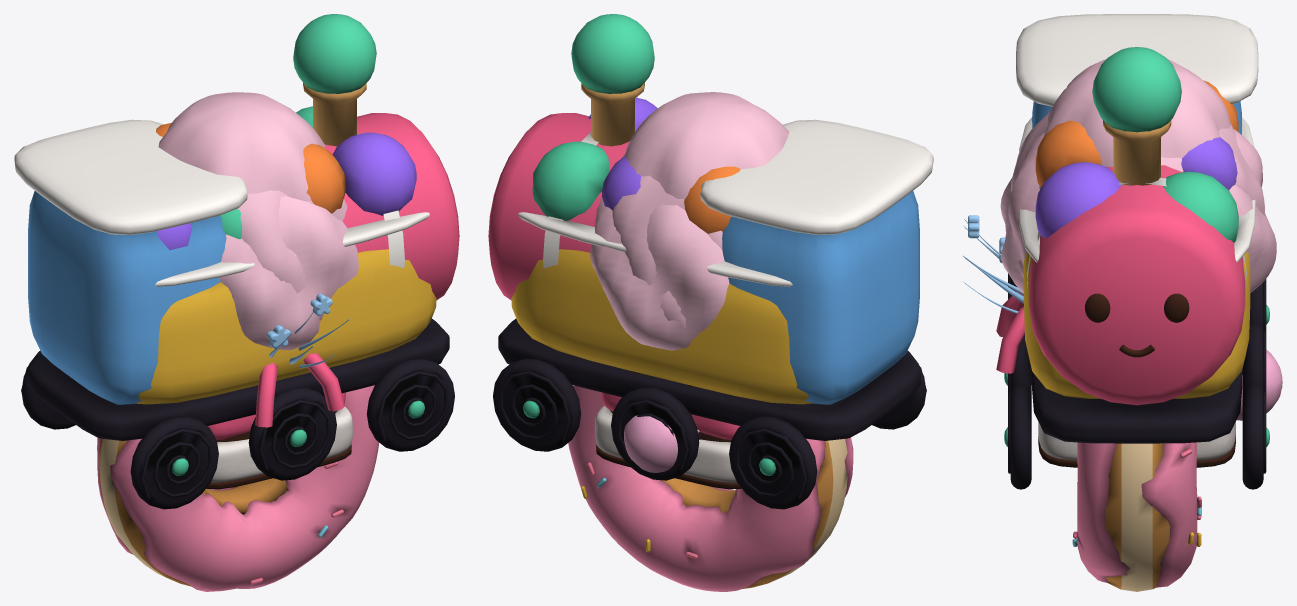
The model's file is candy.glb.
3 renders of one model, left to right at view 1: azimuth 30°, elevation 25°; view 2: azimuth 150°, elevation 25°; view 3: azimuth 270°, elevation 25°, orthographic. The views are drawn at different scales.
Visible parts, largest first — view 1: train_loco_licorice, loco_cab, donut_icing, wagon_tub, train_loco_candyWhite, tree_b_cloud, tree_c_cloud, loco_boiler, train_loco_gb1, train_wagon_gb2, donut_dough, tree_a_cloud (+10 smaller); view 2: train_loco_licorice, loco_cab, donut_icing, wagon_tub, train_loco_candyWhite, tree_c_cloud, tree_b_cloud, loco_boiler, train_loco_gb1, train_wagon_gb1, donut_dough, tree_a_cloud (+9 smaller); view 3: loco_boiler, train_loco_licorice, train_loco_candyWhite, donut_icing, donut_dough, tree_b_cloud, train_loco_gb1, train_wagon_gb2, tree_c_cloud, wagon_tub, train_wagon_gb1, train_wagon_gb3 (+12 smaller).
Boxes of the visible parts, bbox=[...] form: train_loco_licorice: bbox=[21, 318, 454, 509]; loco_cab: bbox=[28, 191, 226, 404]; donut_icing: bbox=[97, 385, 379, 591]; wagon_tub: bbox=[135, 249, 436, 404]; train_loco_candyWhite: bbox=[14, 119, 404, 268]; tree_b_cloud: bbox=[158, 92, 325, 201]; tree_c_cloud: bbox=[220, 196, 358, 349]; loco_boiler: bbox=[324, 113, 459, 299]; train_loco_gb1: bbox=[171, 14, 424, 475]; train_wagon_gb2: bbox=[157, 132, 416, 250]; donut_dough: bbox=[98, 439, 288, 586]; tree_a_cloud: bbox=[237, 190, 347, 320]; train_loco_licorice: bbox=[493, 318, 926, 509]; loco_cab: bbox=[722, 191, 919, 404]; donut_icing: bbox=[568, 385, 853, 591]; wagon_tub: bbox=[511, 249, 813, 404]; train_loco_candyWhite: bbox=[543, 119, 933, 268]; tree_c_cloud: bbox=[590, 198, 729, 350]; tree_b_cloud: bbox=[624, 92, 788, 199]; loco_boiler: bbox=[488, 113, 635, 299]; train_loco_gb1: bbox=[524, 14, 775, 469]; train_wagon_gb1: bbox=[523, 141, 775, 475]; donut_dough: bbox=[662, 438, 847, 588]; tree_a_cloud: bbox=[612, 140, 722, 329]; loco_boiler: bbox=[1029, 165, 1245, 405]; train_loco_licorice: bbox=[1008, 273, 1266, 489]; train_loco_candyWhite: bbox=[1016, 14, 1258, 290]; donut_icing: bbox=[1077, 442, 1197, 587]; donut_dough: bbox=[1105, 443, 1170, 591]; tree_b_cloud: bbox=[1044, 59, 1230, 166]; train_loco_gb1: bbox=[1004, 47, 1269, 445]; train_wagon_gb2: bbox=[1035, 102, 1237, 237]; tree_c_cloud: bbox=[1000, 129, 1276, 293]; wagon_tub: bbox=[1023, 251, 1250, 399]; train_wagon_gb1: bbox=[1006, 115, 1269, 446]; train_wagon_gb3: bbox=[1035, 80, 1238, 186].
Bounding box in the file's own units: 1.75 × 2.41 × 1.21.
